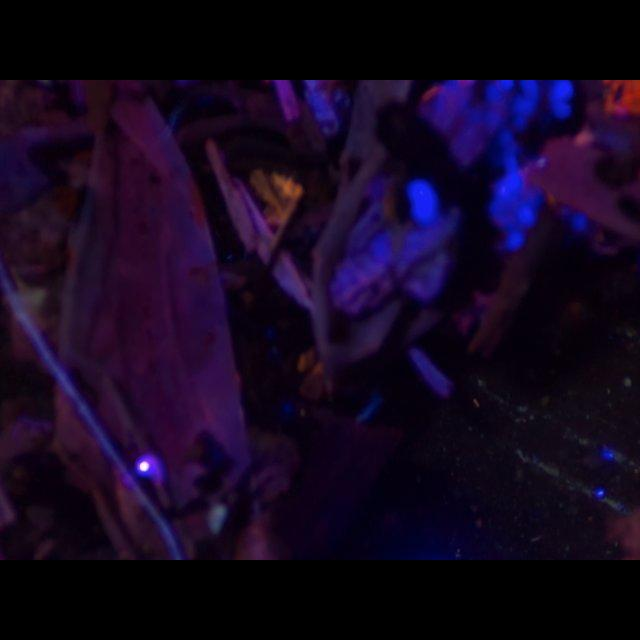microbeads: (620, 374, 632, 388)
